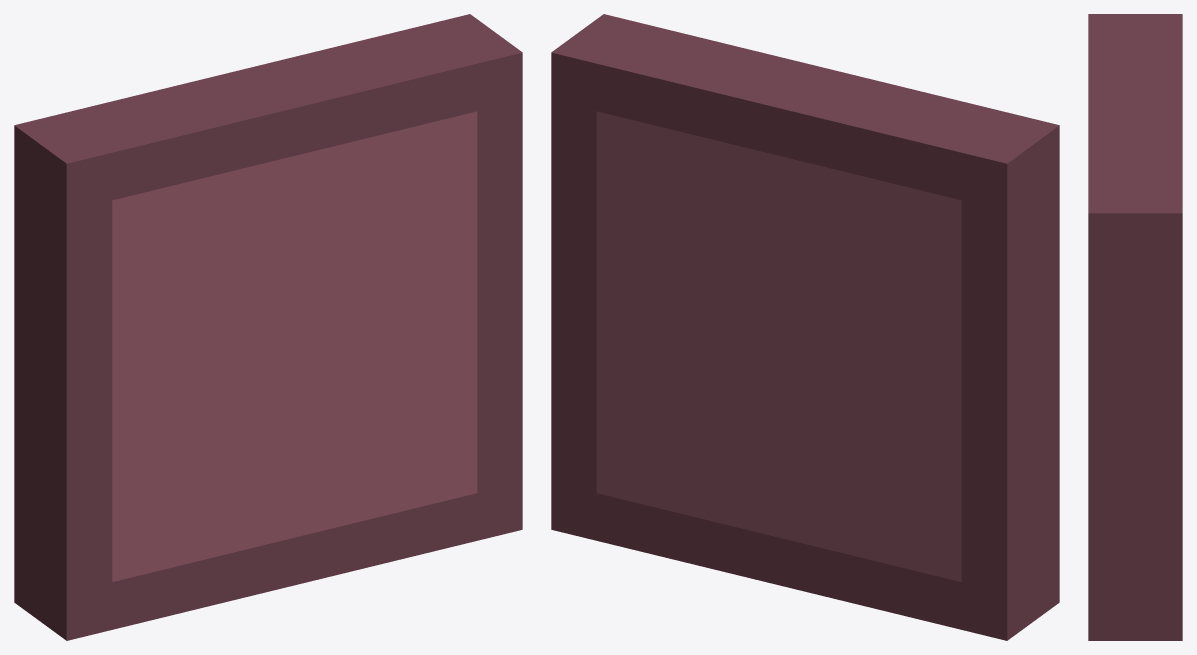
File: tapiz_bordado_jarl_01.glb
3 views of the same model, side by side, from view 1: azimuth 30°, elevation 25°; view 2: azimuth 150°, elevation 25°; view 3: azimuth 270°, elevation 25° (orthographic). The views are drawn at different scales.
Visible parts, largest first — view 1: tapiz_bordado_jarl; view 2: tapiz_bordado_jarl; view 3: tapiz_bordado_jarl.
Boxes of the visible parts, x1,y1,x2,y2 form: tapiz_bordado_jarl: (14,14,522,640); tapiz_bordado_jarl: (551,14,1059,640); tapiz_bordado_jarl: (1088,14,1182,640).
Bounding box in the file's own units: 1 × 1 × 0.2.
